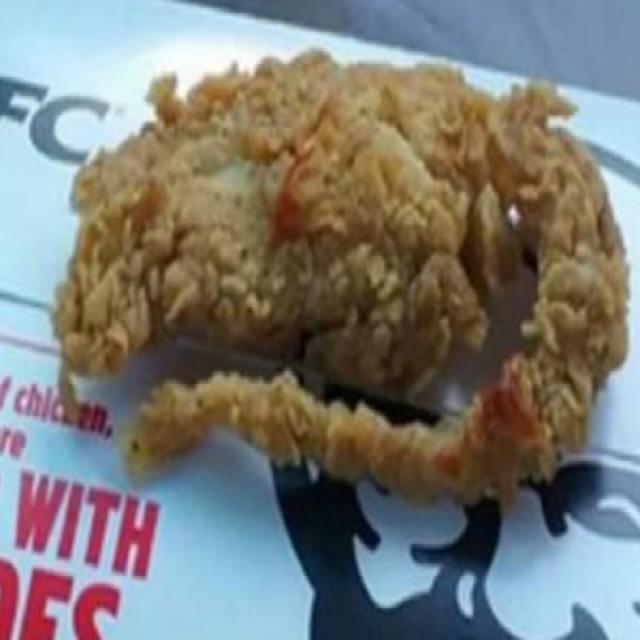Chicken -Fried Chicken-: (53, 50, 630, 507)
